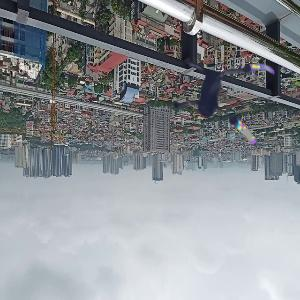drone: (159, 37, 284, 162)
